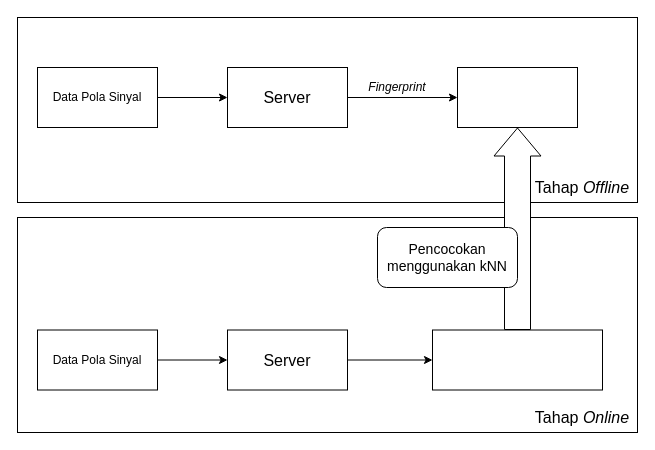
The diagram is 655 pixels wide and 450 high, and some of its shapes have lost their labels. The centre of each missing label's shape, as x and y in pixels:
"Database Fingerprint" belongs at pixel 517 97.
"Fingerprint yang akan ditentukan lokasinya" belongs at pixel 517 359.
